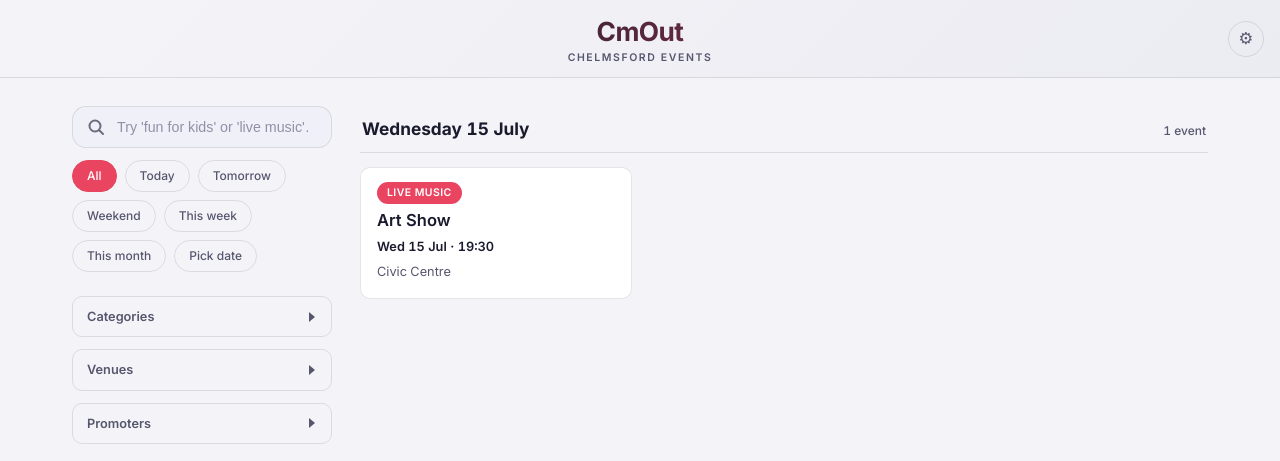
App › navigates back from event detail to event list
The image size is (1280, 461).
Click the button with aria-label "view details for art show".
click(496, 233)  # box [360, 167, 632, 298]
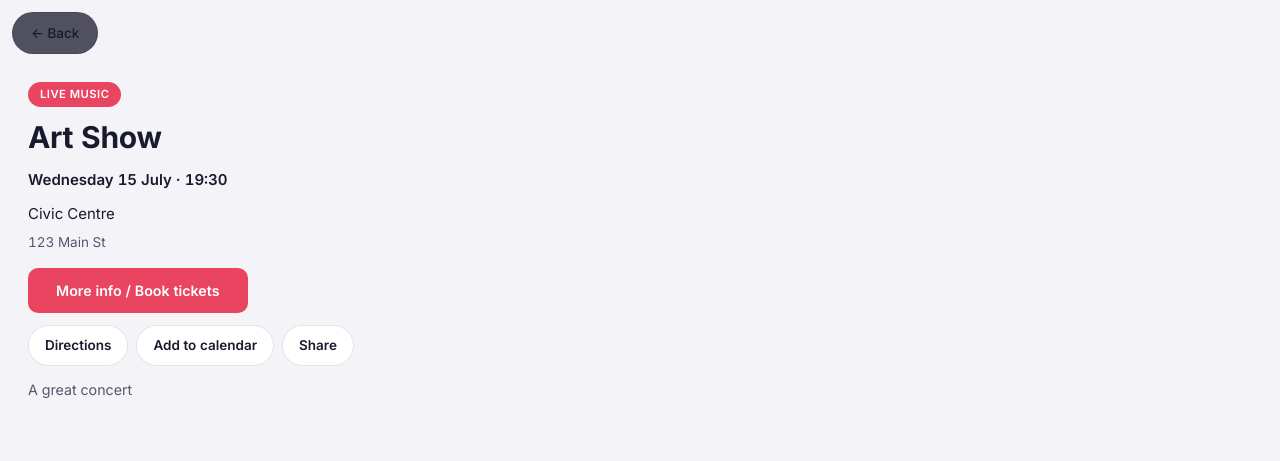
Click the button with aria-label "back to events".
click(55, 33)  # box [12, 12, 98, 54]
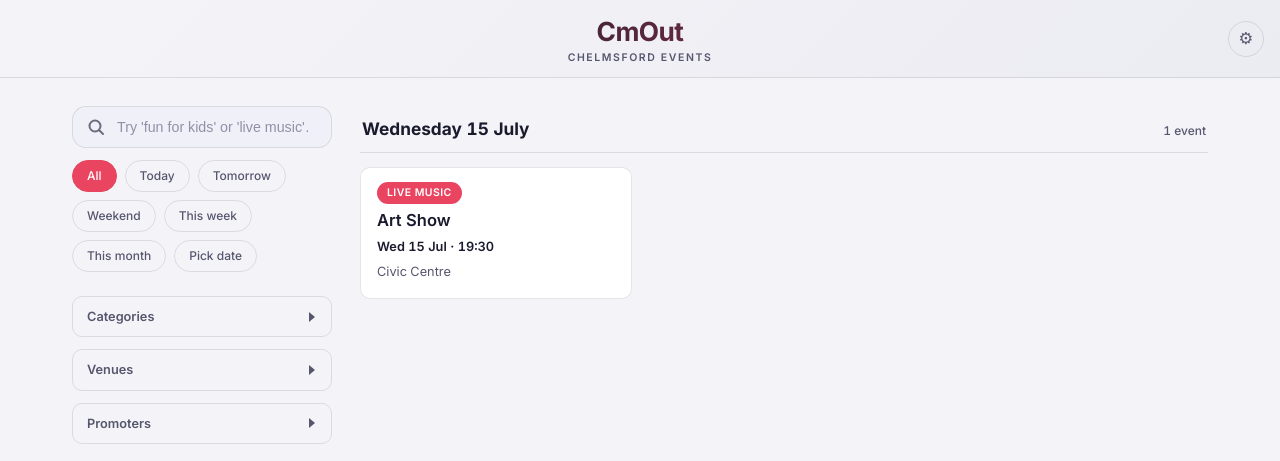
Expected: the heading "CmOut" is shown, [20, 16, 1260, 48]
